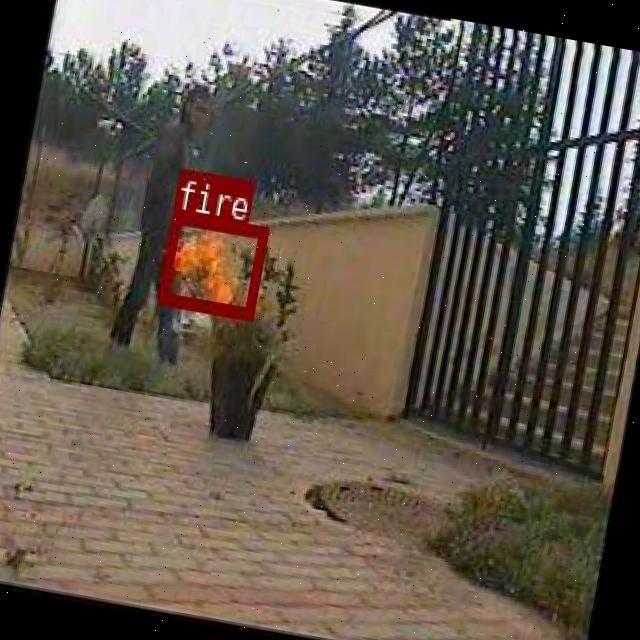fire: (156, 210, 266, 317)
